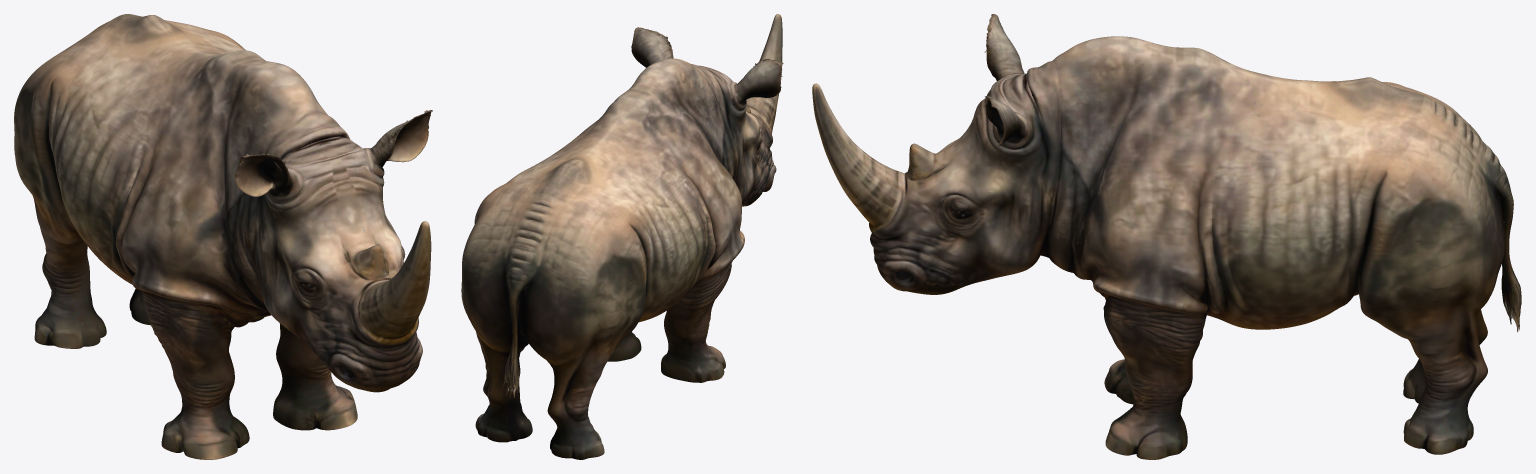
Rendered from Rhino.fbx.
3 renders of one model, left to right at view 1: azimuth 30°, elevation 25°; view 2: azimuth 150°, elevation 25°; view 3: azimuth 270°, elevation 25°, orthographic. The views are drawn at different scales.
Visible parts, largest first — view 1: world; view 2: world; view 3: world.
Part boxes in pixels (bbox=[...]): world: bbox=[14, 14, 432, 459]; world: bbox=[461, 14, 783, 459]; world: bbox=[812, 14, 1521, 459].
Bounding box in the file's own units: 77.23 × 116 × 199.
Materials: 1 (1 with a texture image).
